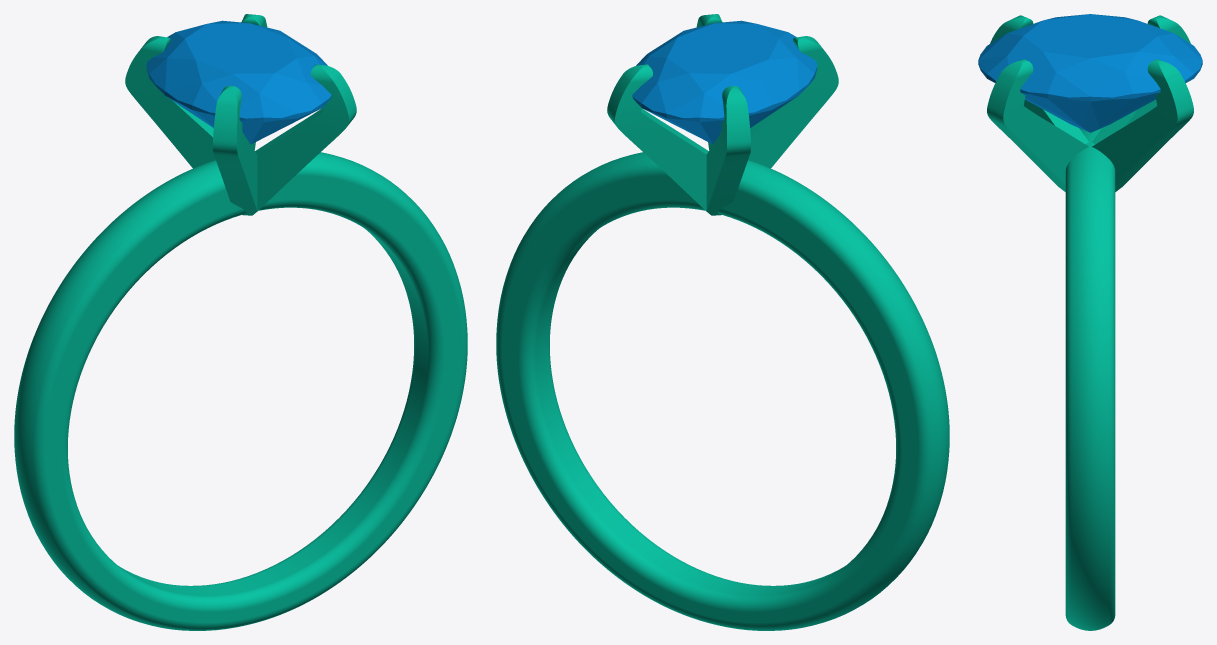
The picture shows the model from 3 angles, left to right: view 1: azimuth 30°, elevation 25°; view 2: azimuth 150°, elevation 25°; view 3: azimuth 270°, elevation 25°; orthographic projection.
Parts seen in each view (by area): view 1: RING.JTC.SRO11(front).3dm, Diamond_Oval; view 2: RING.JTC.SRO11(front).3dm, Diamond_Oval; view 3: RING.JTC.SRO11(front).3dm, Diamond_Oval.
Part boxes in pixels (<box>): RING.JTC.SRO11(front).3dm: <box>14,14,467,630</box>; Diamond_Oval: <box>146,20,331,144</box>; RING.JTC.SRO11(front).3dm: <box>496,14,949,630</box>; Diamond_Oval: <box>632,20,817,144</box>; RING.JTC.SRO11(front).3dm: <box>987,15,1193,630</box>; Diamond_Oval: <box>978,14,1202,132</box>.
Size of what is drawn, in the model's own units: 2.43 by 3 by 1.07.
